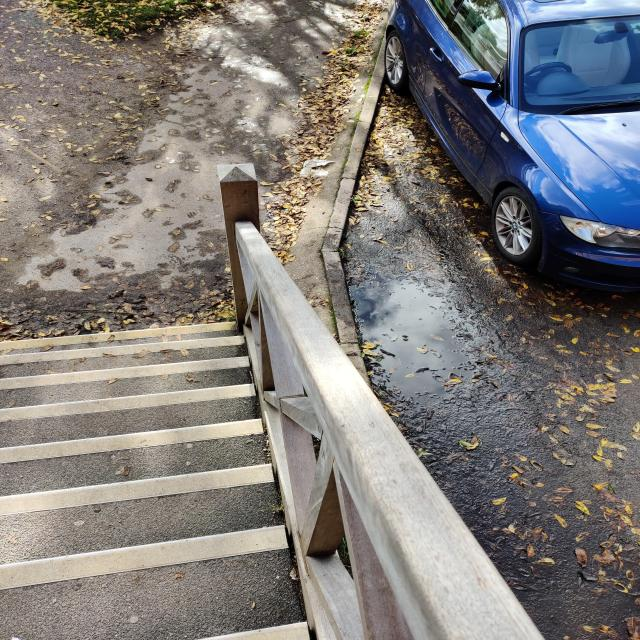litter: (289, 156, 337, 188)
